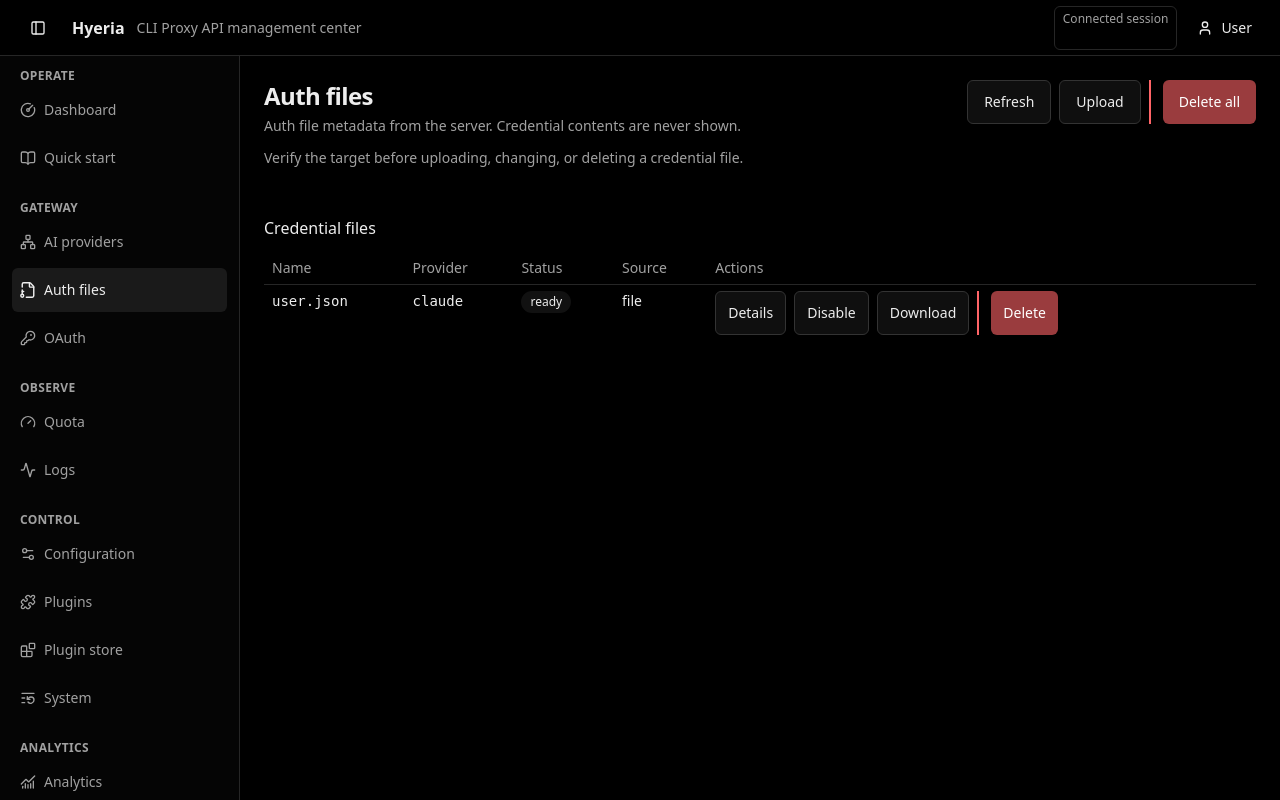
auth files page › does not render the internal auth index in file details
This screenshot has width=1280, height=800.
Expected: the row "user.json claude ready file Details Disable Download Delete" is shown, [264,284,1256,341]
Click the button "Details" at (751, 313), box [715,291,786,335]
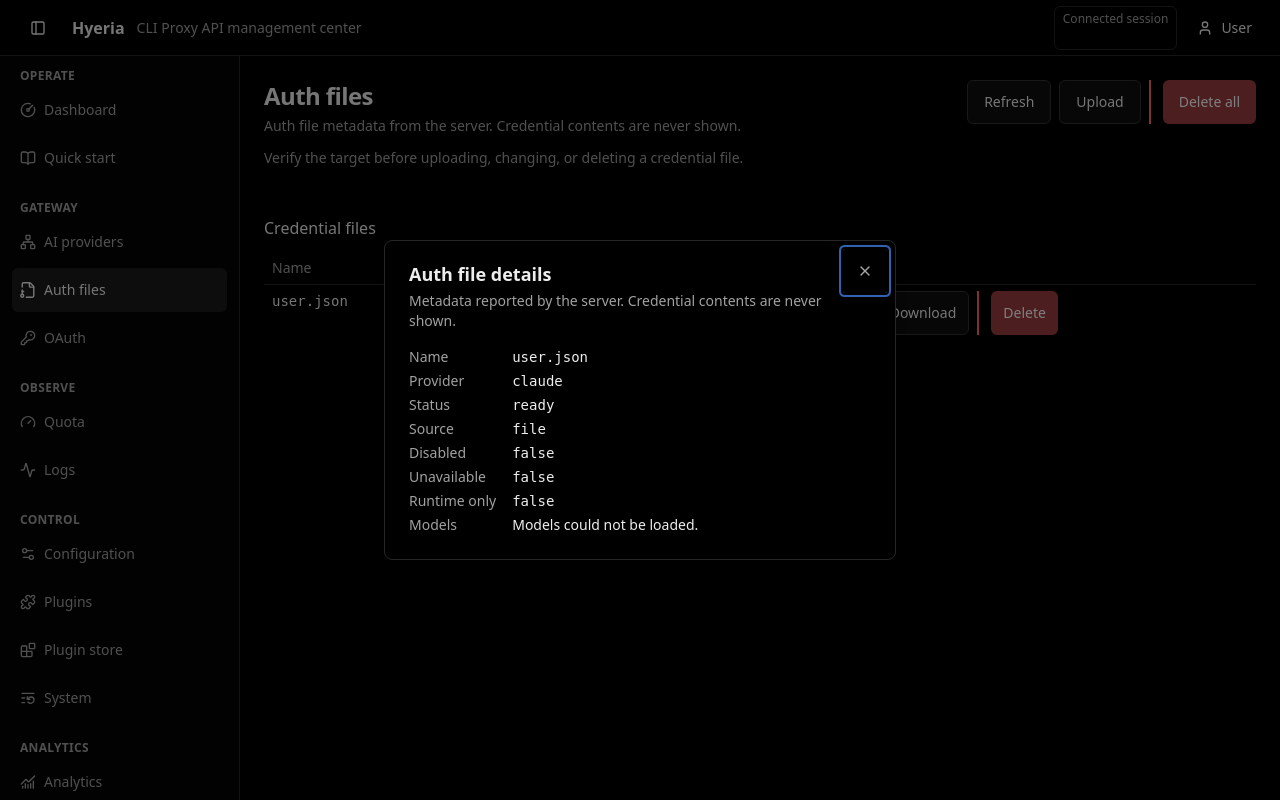
Expected: the dialog is shown, [384,240,896,560]
